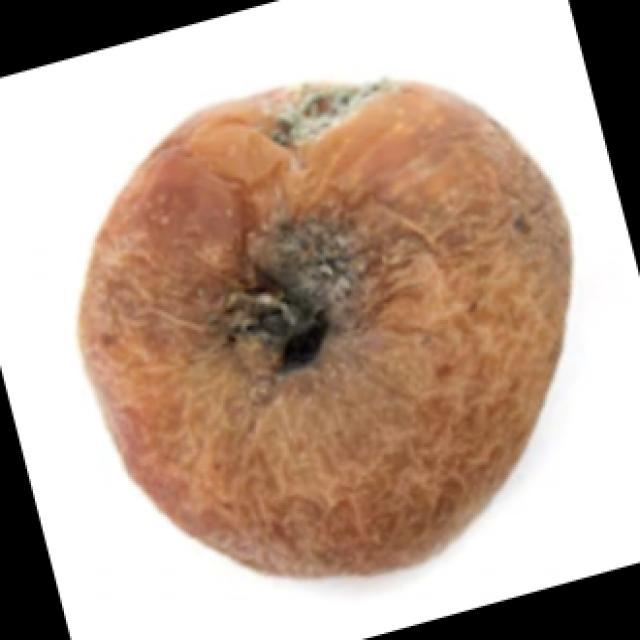Rotten: (75, 67, 565, 565)
